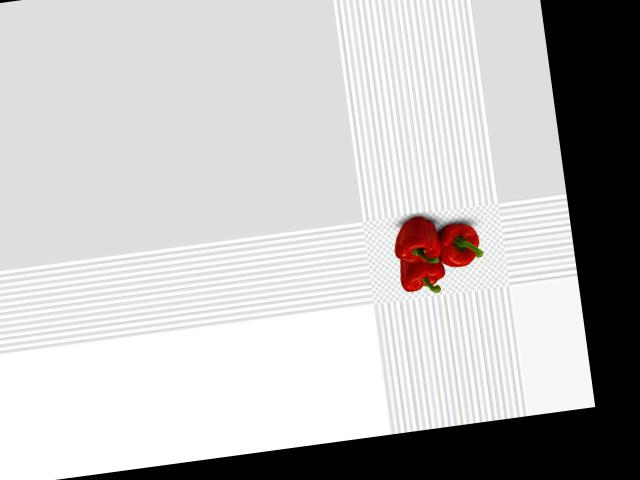bell_pepper: (430, 216, 488, 275)
